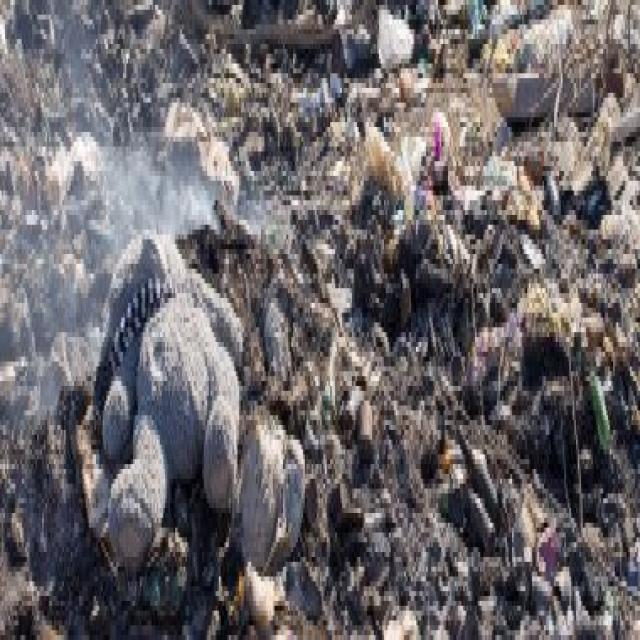garbage: (47, 67, 635, 621)
